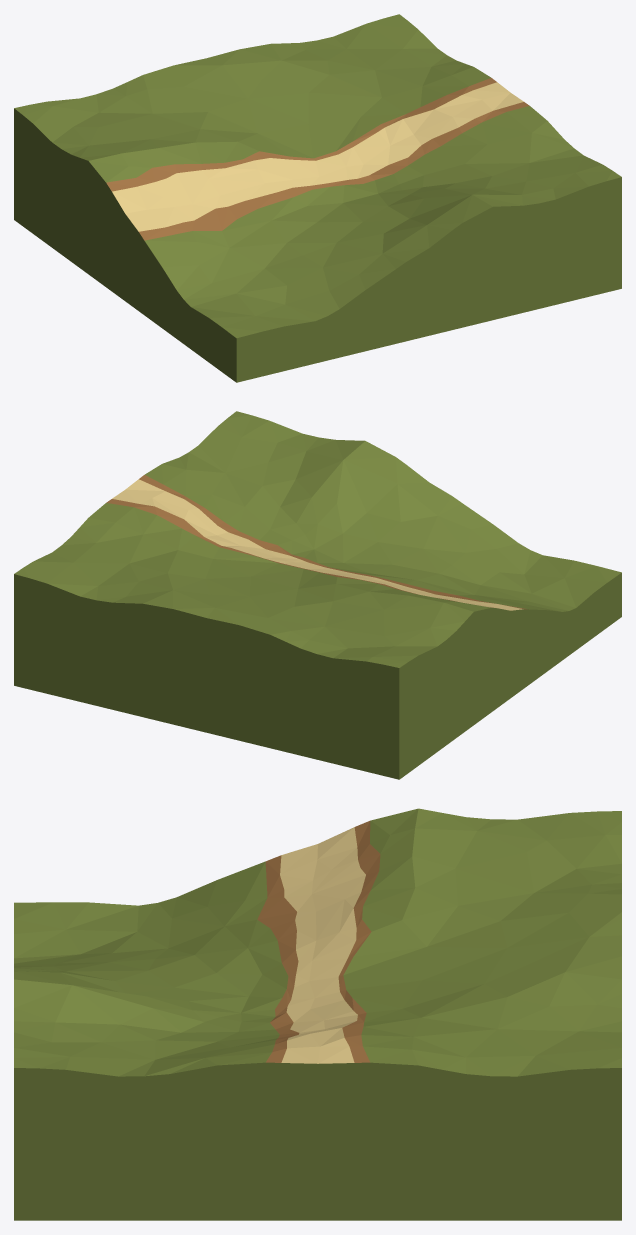
The model's file is Terrian_Road_Straight_HillDip-02.fbx.
3 views of the same model, one above another, from view 1: azimuth 30°, elevation 25°; view 2: azimuth 150°, elevation 25°; view 3: azimuth 270°, elevation 25° (orthographic). The views are drawn at different scales.
Parts seen in each view (by area): view 1: Terrian_Road_Straight_HillDip-02; view 2: Terrian_Road_Straight_HillDip-02; view 3: Terrian_Road_Straight_HillDip-02.
Part boxes in pixels (box(x1,y1,x2,y2)): Terrian_Road_Straight_HillDip-02: box(14, 14, 621, 382); Terrian_Road_Straight_HillDip-02: box(14, 411, 621, 779); Terrian_Road_Straight_HillDip-02: box(14, 808, 621, 1220).
Bounding box in the file's own units: 3600 × 1031 × 3600.
1 material, 1 textured.
